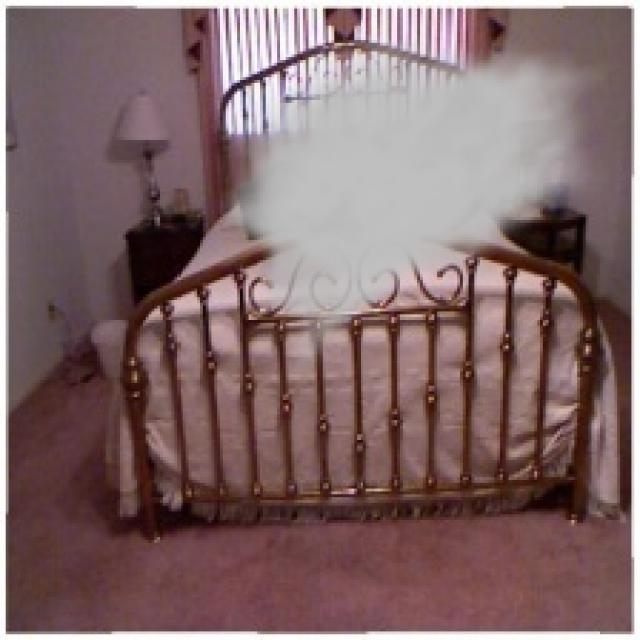smoke: (208, 31, 612, 388)
